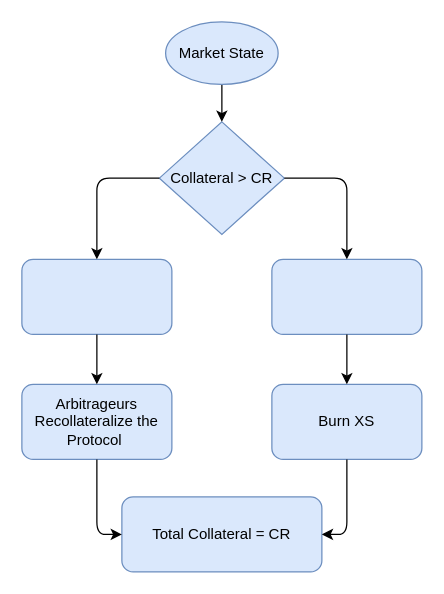
Image size: 444x594. Some labels were removed from this diagram. The centre of each missing label's shape, as x and y in pixels:
Buy XS with Collateral: the point at 346,296
Mint XS at Bonus Rate: the point at 96,296
